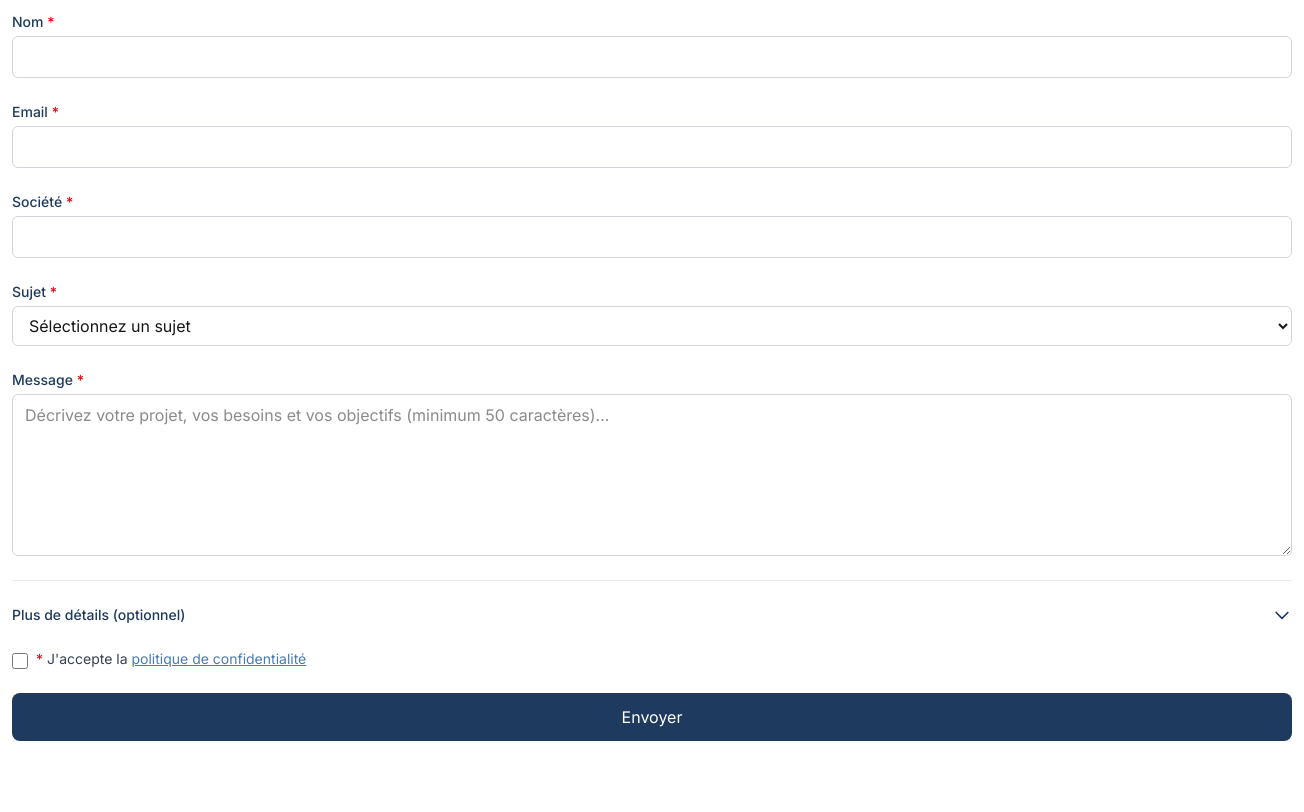
ContactForm › shows validation errors on empty submit
This screenshot has width=1304, height=812.
Click the button "Envoyer". click: (652,717)
box: [12,693,1292,741]
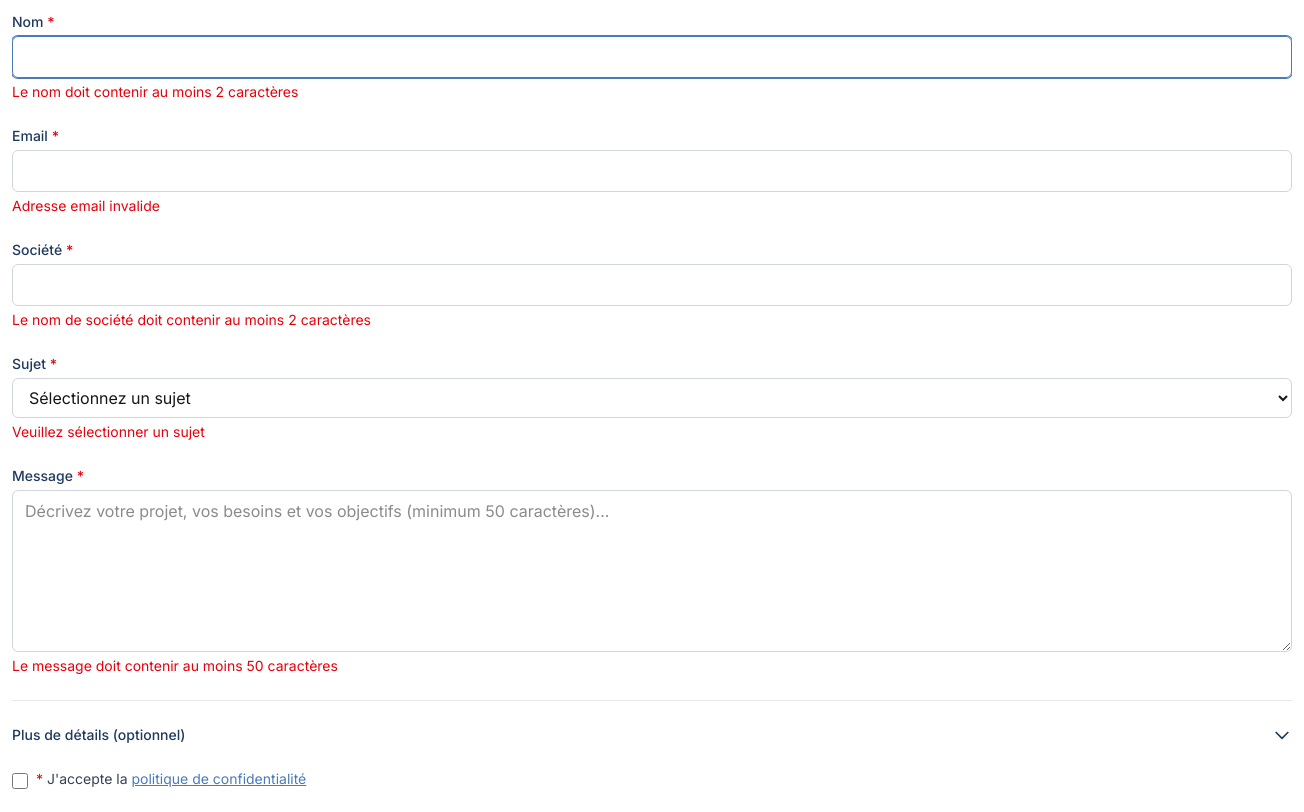
Expected: the text "Le nom doit contenir au moins 2 caractères" is shown, [12,83,298,100]
Expected: the text "Adresse email invalide" is shown, [12,197,160,214]
Expected: the text "Le nom de société doit contenir au moins 2 caractères" is shown, [12,311,371,328]
